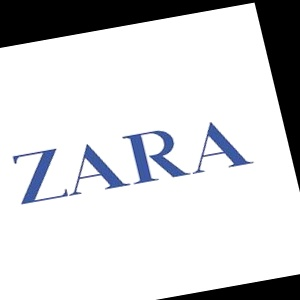zara: (210, 54, 271, 157)
